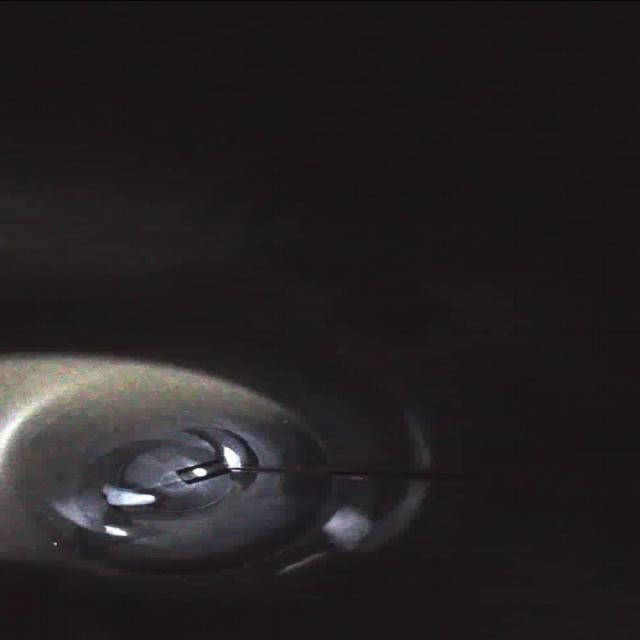impurity: (91, 477, 161, 513)
